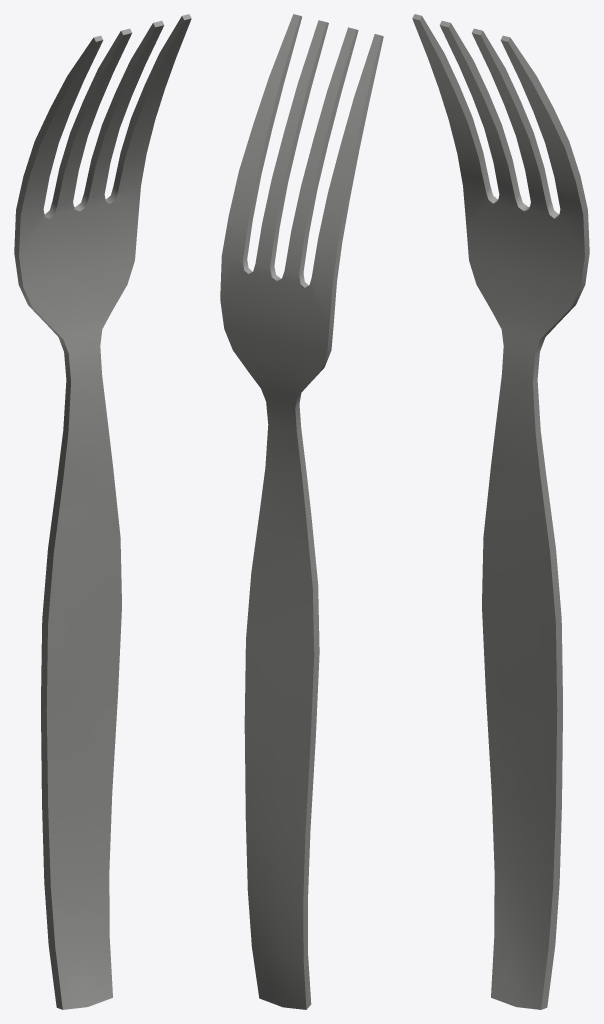
The model's file is fork.glb.
The picture shows the model from 3 angles, left to right: view 1: azimuth 30°, elevation 25°; view 2: azimuth 150°, elevation 25°; view 3: azimuth 330°, elevation 25°; orthographic projection. The views are drawn at different scales.
Visible parts, largest first — view 1: fork; view 2: fork; view 3: fork.
Part boxes in pixels (bbox=[...]): fork: bbox=[14, 14, 191, 1009]; fork: bbox=[220, 14, 383, 1009]; fork: bbox=[412, 14, 589, 1009].
Size of the model in its own units: 0.0228 by 0.1847 by 0.023.
Materials: 1 (1 with a texture image).
